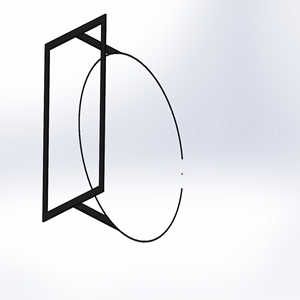circle: (41, 12, 186, 244)
